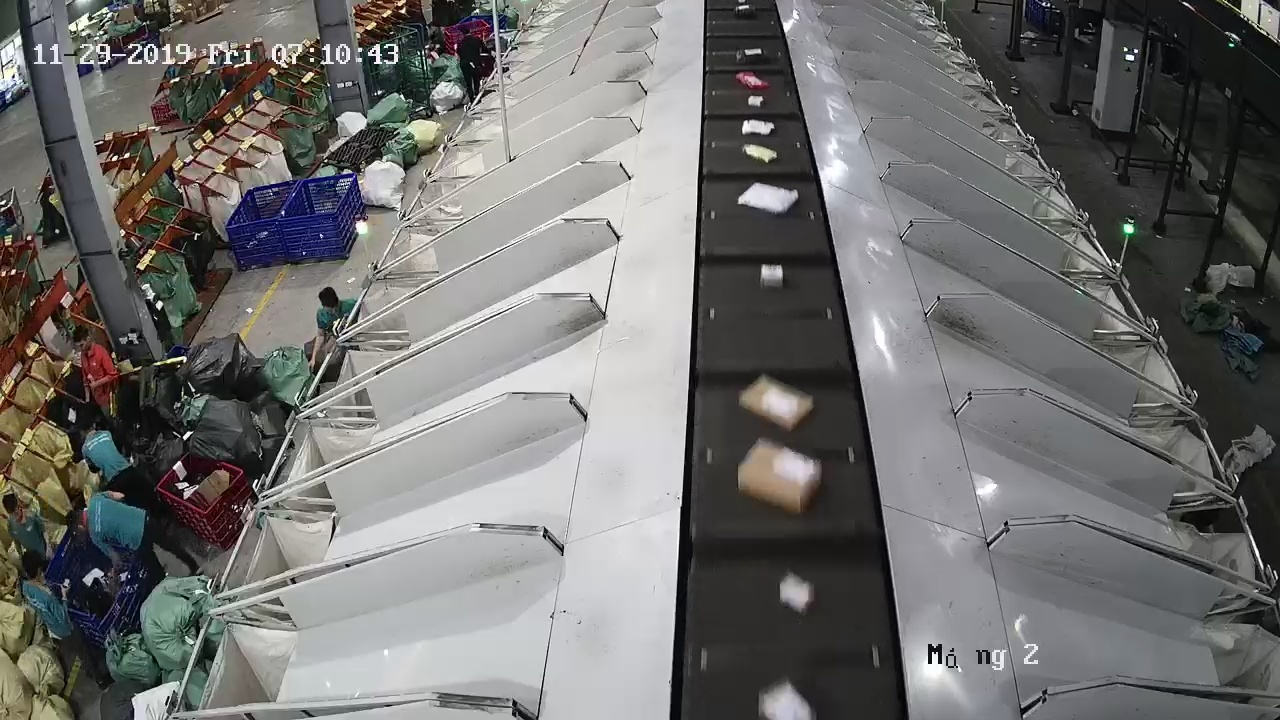parcel: (738, 440, 823, 516), (741, 377, 814, 432), (738, 182, 799, 215), (781, 576, 816, 615), (760, 264, 784, 289)
